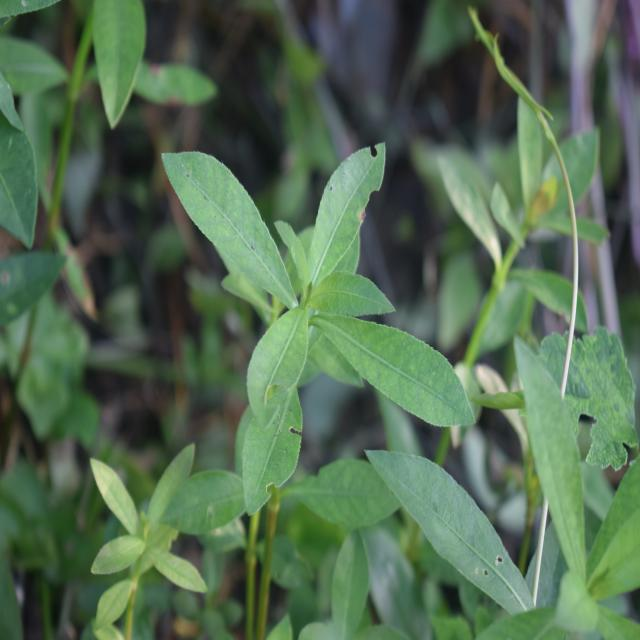Alligatorweed: (157, 120, 461, 488)
